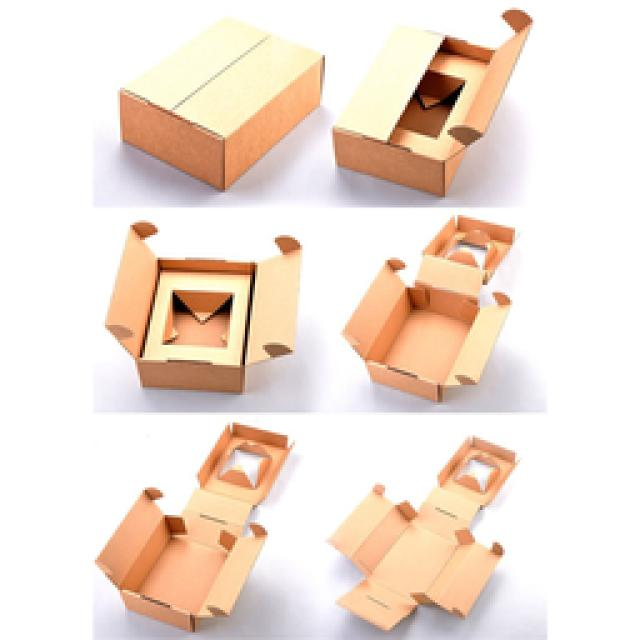cardboard: (95, 422, 290, 630), (332, 10, 530, 195), (328, 438, 515, 628), (120, 20, 322, 188), (105, 220, 300, 390), (342, 215, 512, 400)
